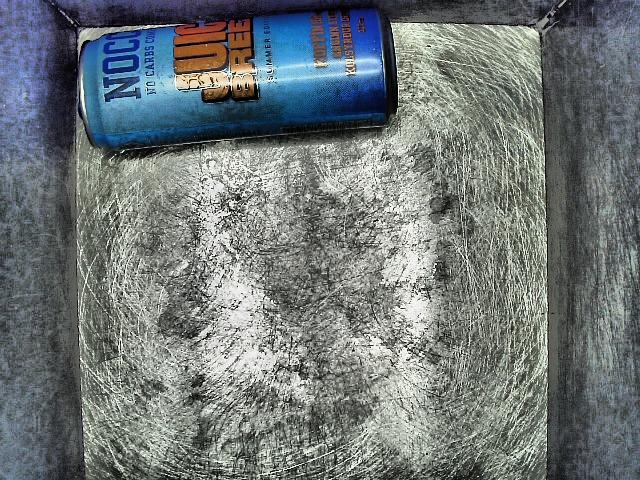Bottles: (83, 0, 430, 191)
